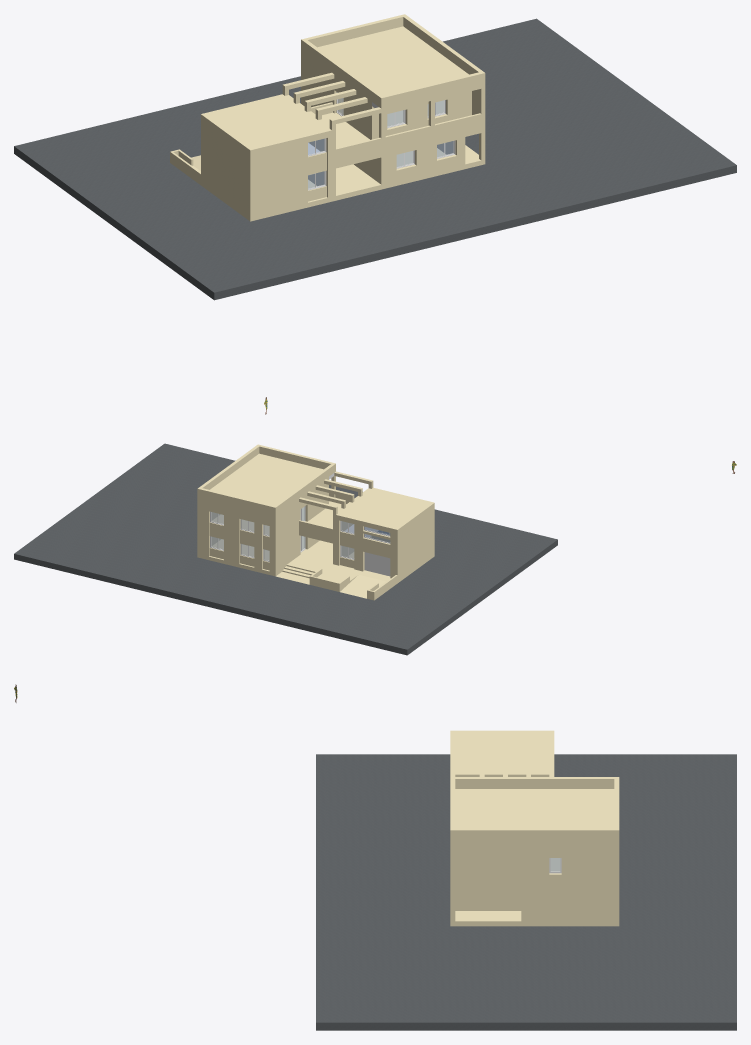
The picture shows the model from 3 angles, top to bottom: view 1: azimuth 30°, elevation 25°; view 2: azimuth 150°, elevation 25°; view 3: azimuth 270°, elevation 25°; orthographic projection. The views are drawn at different scales.
Visible parts, largest first — view 1: 48407, 47396, 36076, 44218, 42410, 36023, 42647, 36182; view 2: 48407, 47396, 36076, 36023, 42410, 36182, 44218, 42647, 47385; view 3: 48407, 47396, 42410, 36182, 44218, 36023.
Part boxes in pixels (box(x1,y1,x2,y2)): 48407: box(14, 18, 736, 300); 47396: box(301, 14, 485, 108); 36076: box(201, 117, 335, 216); 44218: box(201, 94, 331, 153); 42410: box(301, 50, 485, 139); 36023: box(170, 145, 485, 221); 42647: box(311, 102, 481, 168); 36182: box(301, 96, 465, 184); 48407: box(14, 443, 557, 655); 47396: box(197, 444, 335, 515); 36076: box(333, 505, 434, 579); 36023: box(197, 540, 434, 600); 42410: box(197, 477, 328, 547); 36182: box(197, 528, 319, 572); 44218: box(333, 487, 434, 532); 42647: box(299, 493, 349, 543); 47385: box(364, 552, 390, 576); 48407: box(316, 754, 736, 1030); 47396: box(450, 777, 619, 841); 42410: box(450, 841, 619, 885); 36182: box(455, 885, 619, 921); 44218: box(450, 730, 554, 776); 36023: box(450, 911, 619, 926).
Bounding box in the file's own units: 61.15 × 9.37 × 59.06.
1160 materials, 11 textured.
